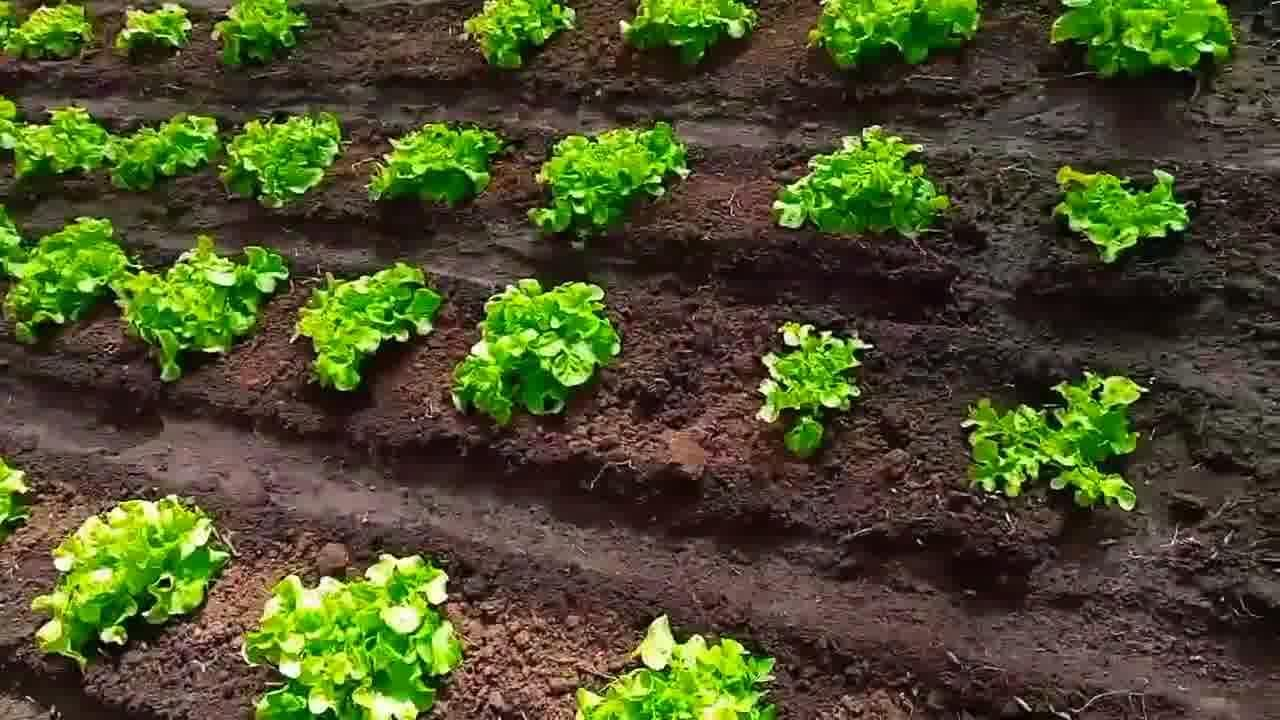Healthy: (23, 495, 236, 669), (245, 555, 457, 720), (970, 381, 1149, 516), (453, 277, 615, 421), (576, 612, 779, 720), (125, 240, 282, 373), (777, 124, 938, 244), (296, 262, 435, 396), (1046, 0, 1230, 87), (541, 129, 680, 229), (803, 2, 987, 77), (759, 311, 872, 428), (220, 118, 350, 210), (365, 119, 498, 208), (1053, 172, 1191, 257), (109, 124, 227, 193), (206, 0, 309, 78), (620, 0, 767, 54), (0, 5, 103, 72), (456, 0, 560, 63), (118, 6, 195, 56)
